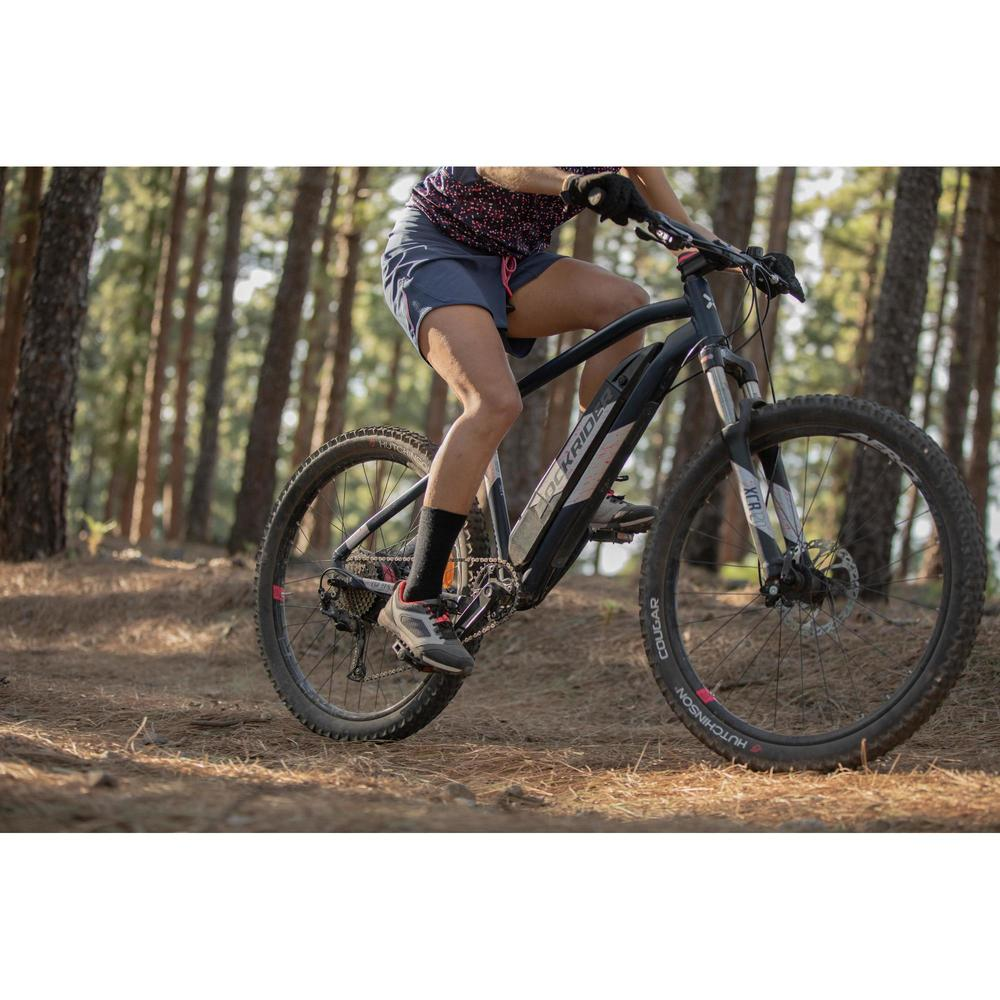MountainBike: (259, 187, 974, 773)
